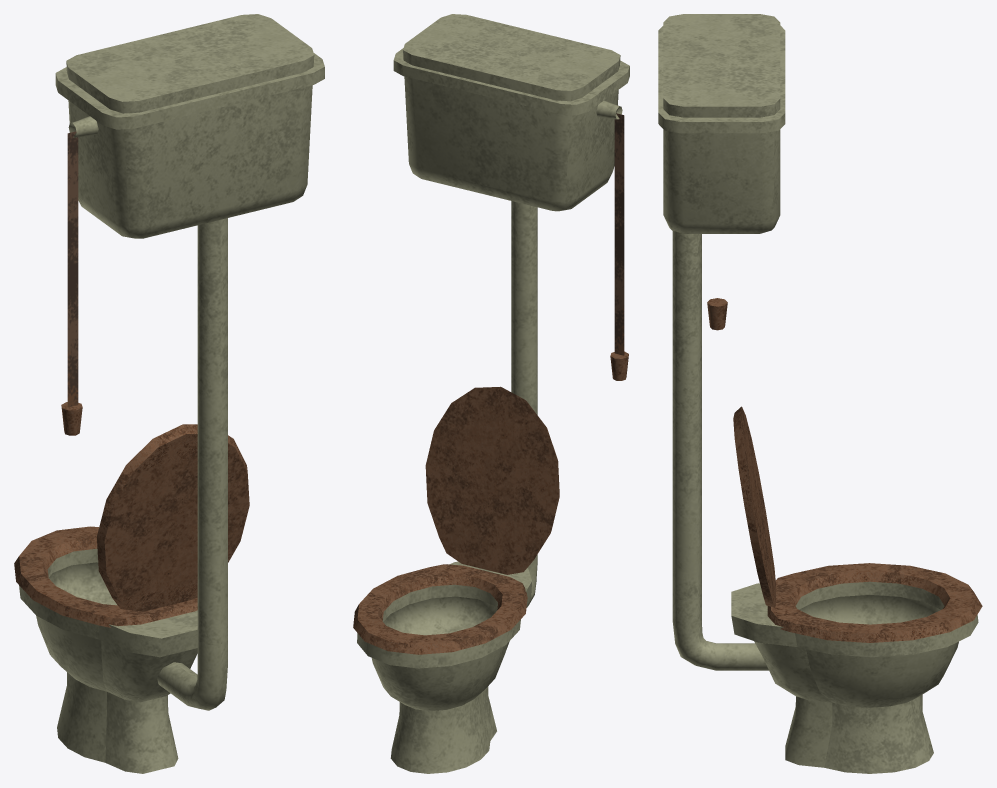
File: Toilet.fbx
3 views of the same model, side by side, from view 1: azimuth 30°, elevation 25°; view 2: azimuth 150°, elevation 25°; view 3: azimuth 270°, elevation 25° (orthographic). The views are drawn at different scales.
Visible parts, largest first — view 1: Cylinder.029; view 2: Cylinder.029; view 3: Cylinder.029.
Boxes of the visible parts, x1,y1,x2,y2 form: Cylinder.029: [14, 14, 324, 773]; Cylinder.029: [353, 14, 629, 773]; Cylinder.029: [658, 14, 982, 773].
Size of the model in its own units: 90.79 by 266 by 113.
1 material, 1 textured.
